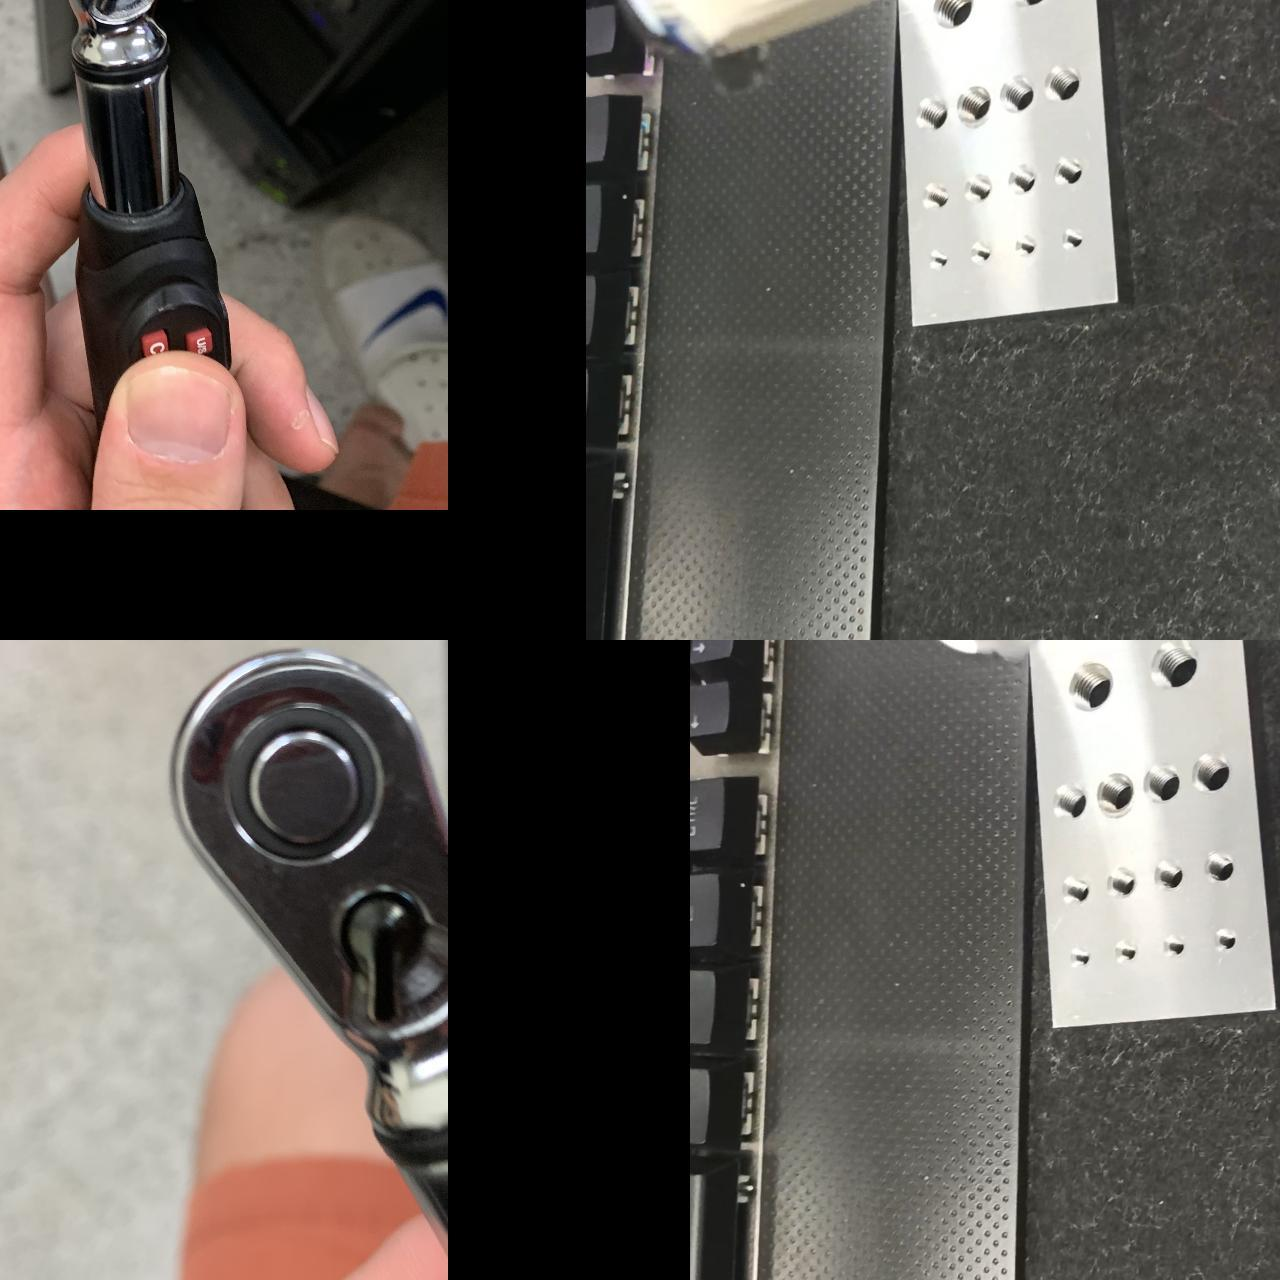Tool: (158, 660, 449, 1137), (47, 1, 175, 73)
hole: (1142, 642, 1209, 708), (1065, 659, 1114, 713), (1190, 749, 1235, 806), (1097, 769, 1139, 823), (1048, 776, 1090, 828), (1144, 760, 1185, 811), (955, 85, 996, 130), (1200, 844, 1240, 890), (997, 76, 1040, 115), (1153, 855, 1189, 897), (913, 92, 951, 131), (1104, 866, 1137, 908), (1047, 66, 1083, 104), (1049, 157, 1088, 191), (1004, 161, 1037, 197), (1062, 868, 1090, 910), (962, 173, 997, 205), (922, 183, 954, 212), (1212, 926, 1237, 963), (1056, 230, 1085, 256), (921, 250, 952, 273), (1162, 932, 1184, 961), (973, 241, 996, 268), (1070, 942, 1090, 971), (1116, 939, 1138, 965), (1014, 236, 1041, 257)
